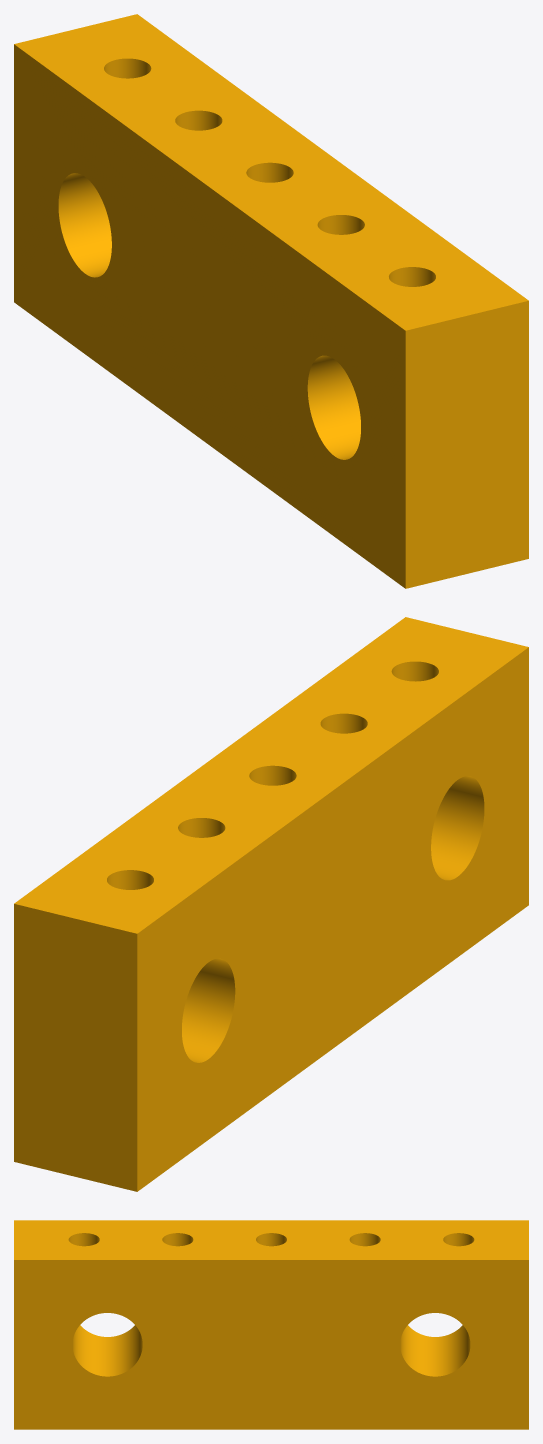
3 views of the same model, one above another, from view 1: azimuth 30°, elevation 25°; view 2: azimuth 150°, elevation 25°; view 3: azimuth 270°, elevation 25° (orthographic). The views are drawn at different scales.
Visible parts, largest first — view 1: 1_com_peca; view 2: 1_com_peca; view 3: 1_com_peca.
Boxes of the visible parts, x1,y1,x2,y2 form: 1_com_peca: (14,14,528,588); 1_com_peca: (14,617,528,1191); 1_com_peca: (14,1220,528,1429).
Bounding box in the file's own units: 0.9202 × 1.84 × 5.06.
